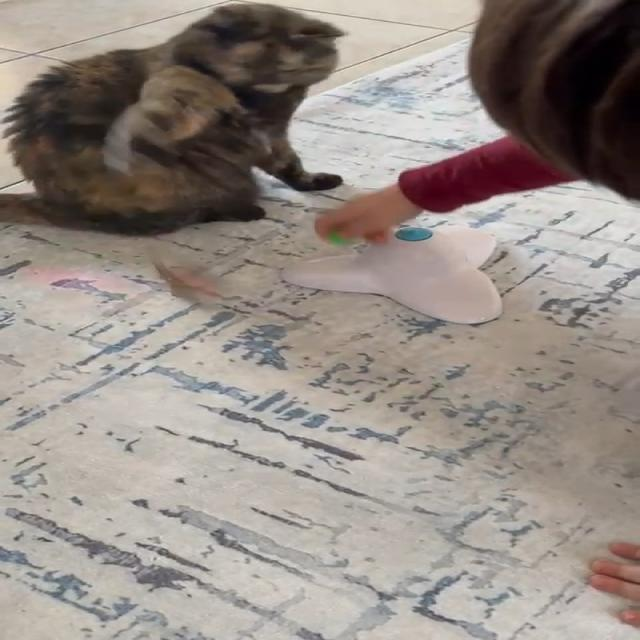authorized: (0, 2, 347, 236)
